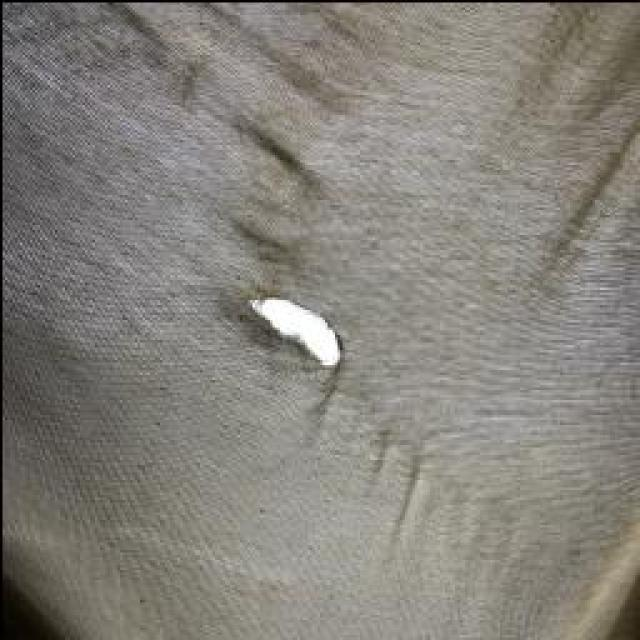other: (224, 260, 394, 402)
